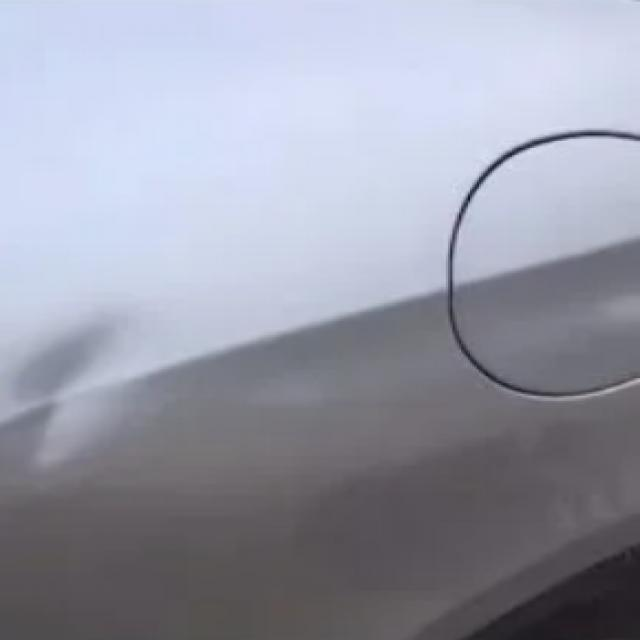dents: (6, 282, 192, 502)
